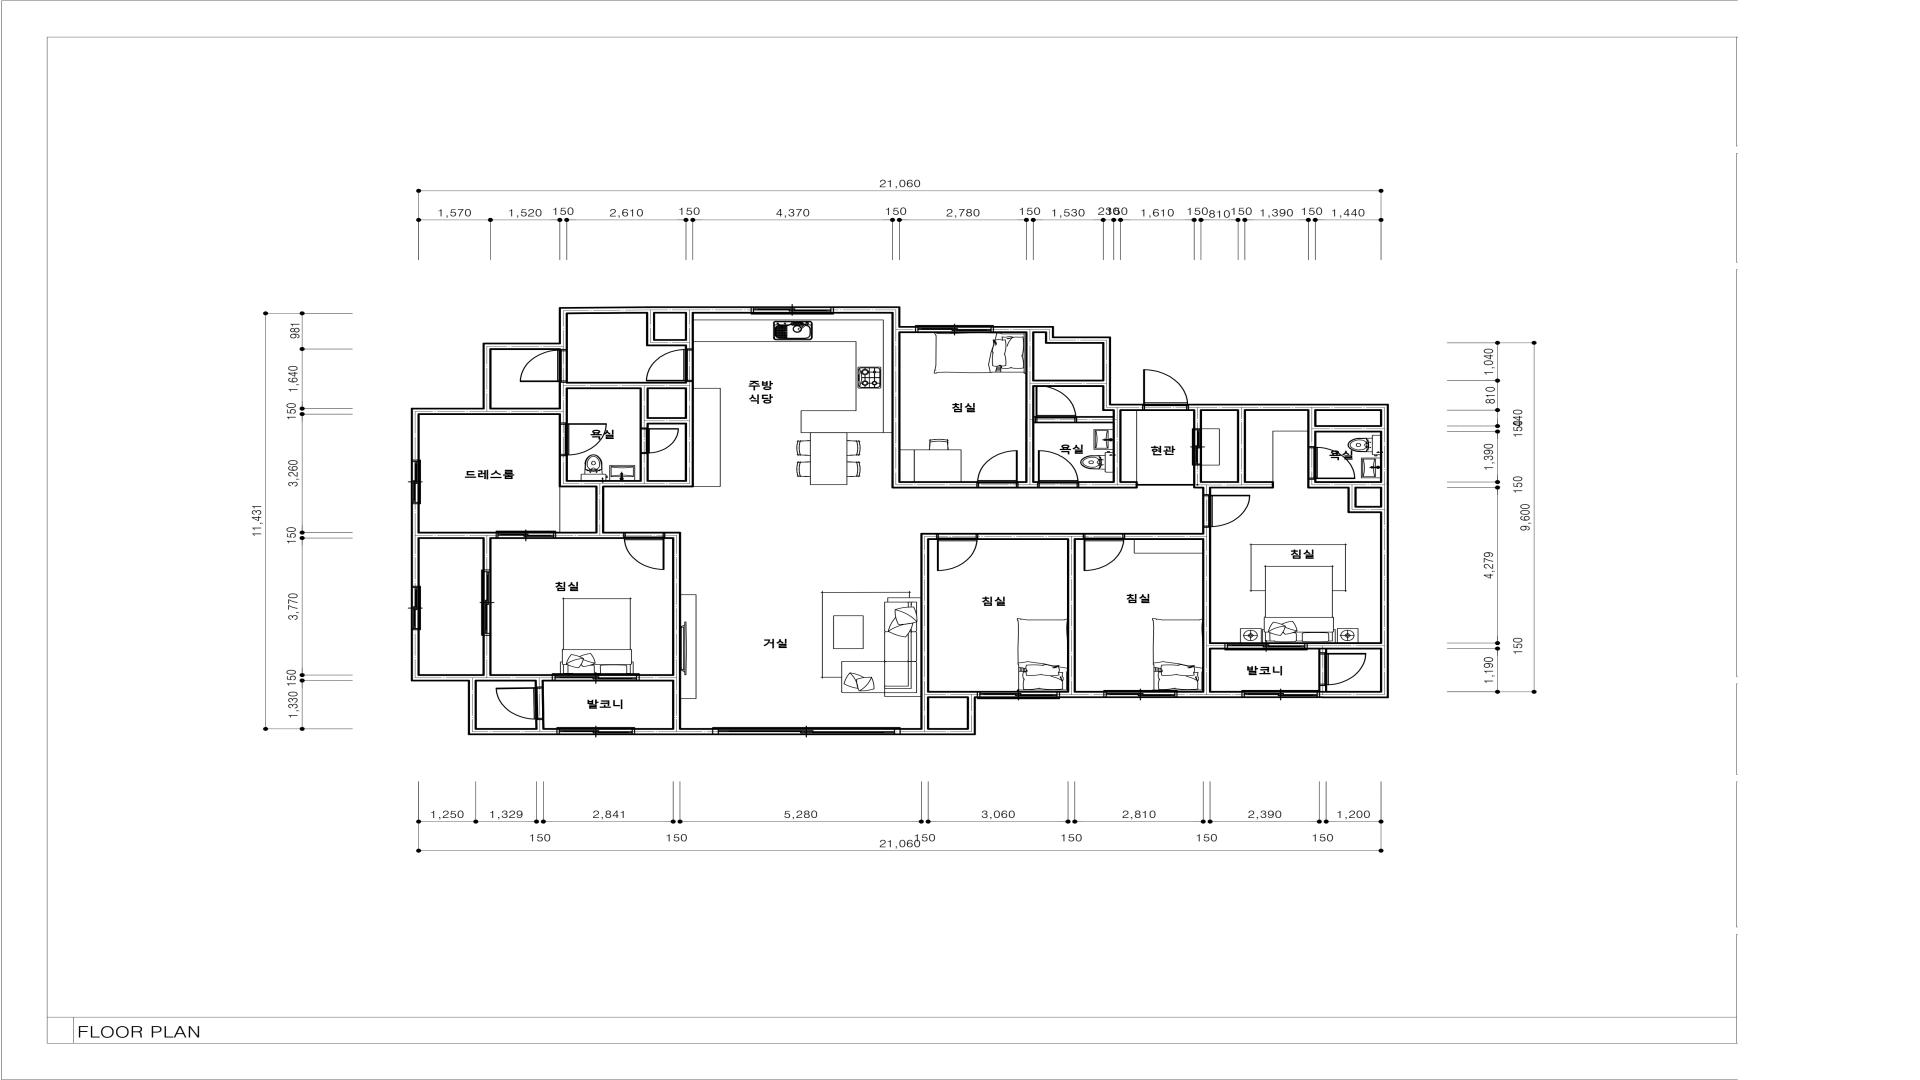door: (1143, 369, 1188, 411), (495, 687, 544, 720), (1083, 533, 1125, 571), (1318, 653, 1367, 685), (519, 350, 568, 382), (624, 532, 665, 570), (937, 533, 978, 571), (977, 450, 1018, 488), (559, 423, 607, 455), (1202, 495, 1250, 527), (1307, 447, 1355, 479), (646, 349, 694, 381), (1038, 450, 1078, 488), (1036, 387, 1076, 423), (640, 428, 679, 453), (496, 530, 556, 539), (1192, 429, 1202, 465)
wall: (1380, 411, 1389, 698), (672, 539, 681, 728), (920, 540, 929, 728), (891, 333, 901, 481), (1202, 527, 1211, 691), (568, 306, 752, 314), (1188, 404, 1389, 411), (1067, 540, 1076, 691), (1025, 333, 1034, 481), (559, 480, 694, 487), (685, 381, 694, 480), (568, 382, 685, 389), (411, 504, 420, 587), (977, 533, 1083, 540), (1045, 333, 1111, 344), (891, 481, 977, 489), (468, 728, 558, 735), (1113, 411, 1122, 481), (1237, 411, 1246, 481), (1102, 344, 1111, 411), (483, 343, 492, 408), (1307, 642, 1380, 650), (1193, 481, 1274, 488), (411, 674, 491, 681), (635, 728, 713, 735), (1124, 533, 1202, 540), (420, 532, 497, 539), (491, 343, 568, 350), (833, 306, 900, 314), (1316, 481, 1380, 489), (1317, 425, 1380, 433), (420, 408, 492, 415), (491, 674, 553, 682), (555, 532, 624, 539), (1034, 380, 1102, 387), (900, 728, 967, 735), (492, 408, 559, 415), (411, 408, 420, 460), (1176, 691, 1242, 698), (1319, 691, 1380, 698), (993, 326, 1054, 333), (468, 681, 477, 728), (1078, 481, 1138, 488), (411, 629, 420, 674), (595, 487, 604, 532), (482, 635, 492, 674), (559, 382, 568, 423), (1307, 411, 1317, 447), (640, 389, 649, 428), (967, 698, 976, 735), (559, 307, 568, 343), (1059, 691, 1104, 698), (685, 314, 694, 349), (482, 539, 491, 570), (646, 339, 685, 346), (929, 691, 967, 698), (639, 674, 672, 682), (1076, 416, 1113, 423), (649, 417, 685, 424), (1347, 488, 1357, 513), (640, 453, 649, 480), (646, 314, 655, 339), (559, 455, 568, 480), (1111, 404, 1143, 411), (891, 314, 901, 333), (1193, 411, 1202, 429), (1357, 506, 1380, 513), (1193, 465, 1202, 481), (1018, 481, 1038, 488), (1211, 642, 1226, 650), (664, 532, 681, 539), (920, 533, 937, 540), (901, 326, 916, 333), (535, 719, 545, 728), (1307, 479, 1316, 489), (967, 691, 978, 698), (1202, 488, 1211, 495), (1319, 685, 1327, 691), (535, 682, 544, 687), (1318, 649, 1327, 653), (1034, 416, 1036, 423)
window: (713, 727, 900, 735), (553, 673, 639, 682), (752, 306, 833, 315), (1225, 642, 1307, 650), (482, 570, 492, 635), (978, 691, 1059, 699), (557, 727, 635, 735), (1242, 690, 1319, 698), (916, 325, 993, 333), (1104, 690, 1177, 698), (411, 460, 421, 504), (411, 587, 421, 629)
